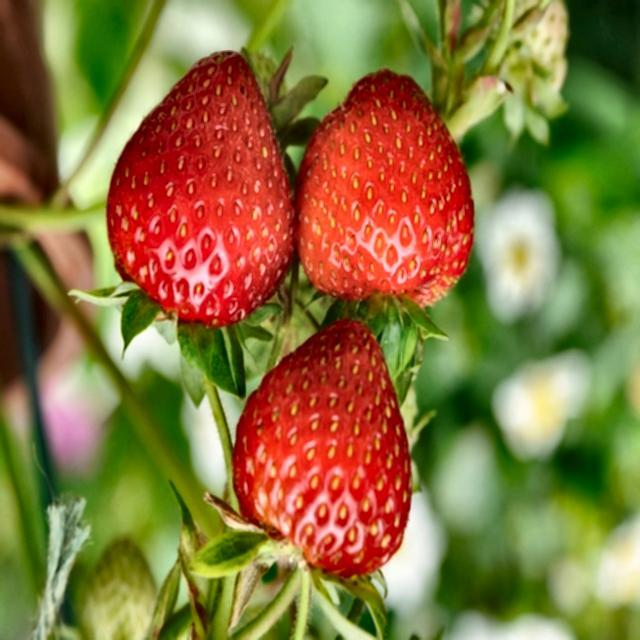strawberry: (106, 51, 295, 327), (232, 320, 411, 577), (298, 70, 474, 306)
